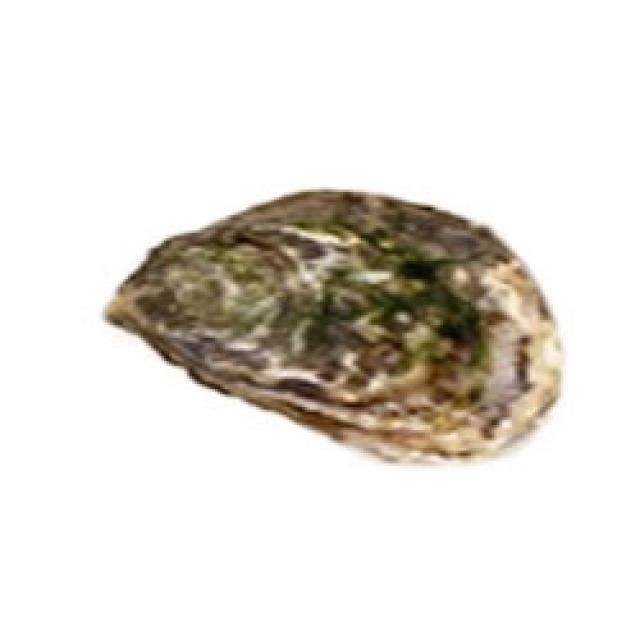Oyster- Indeterminate: (90, 176, 576, 484)
